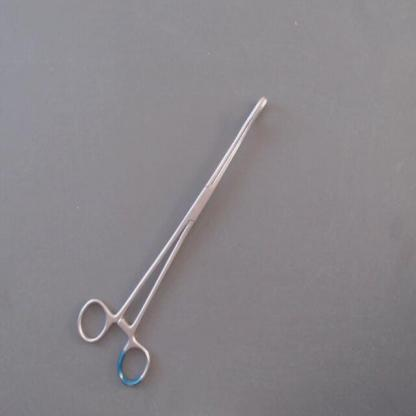Sponge Forceps: (69, 87, 280, 395)
